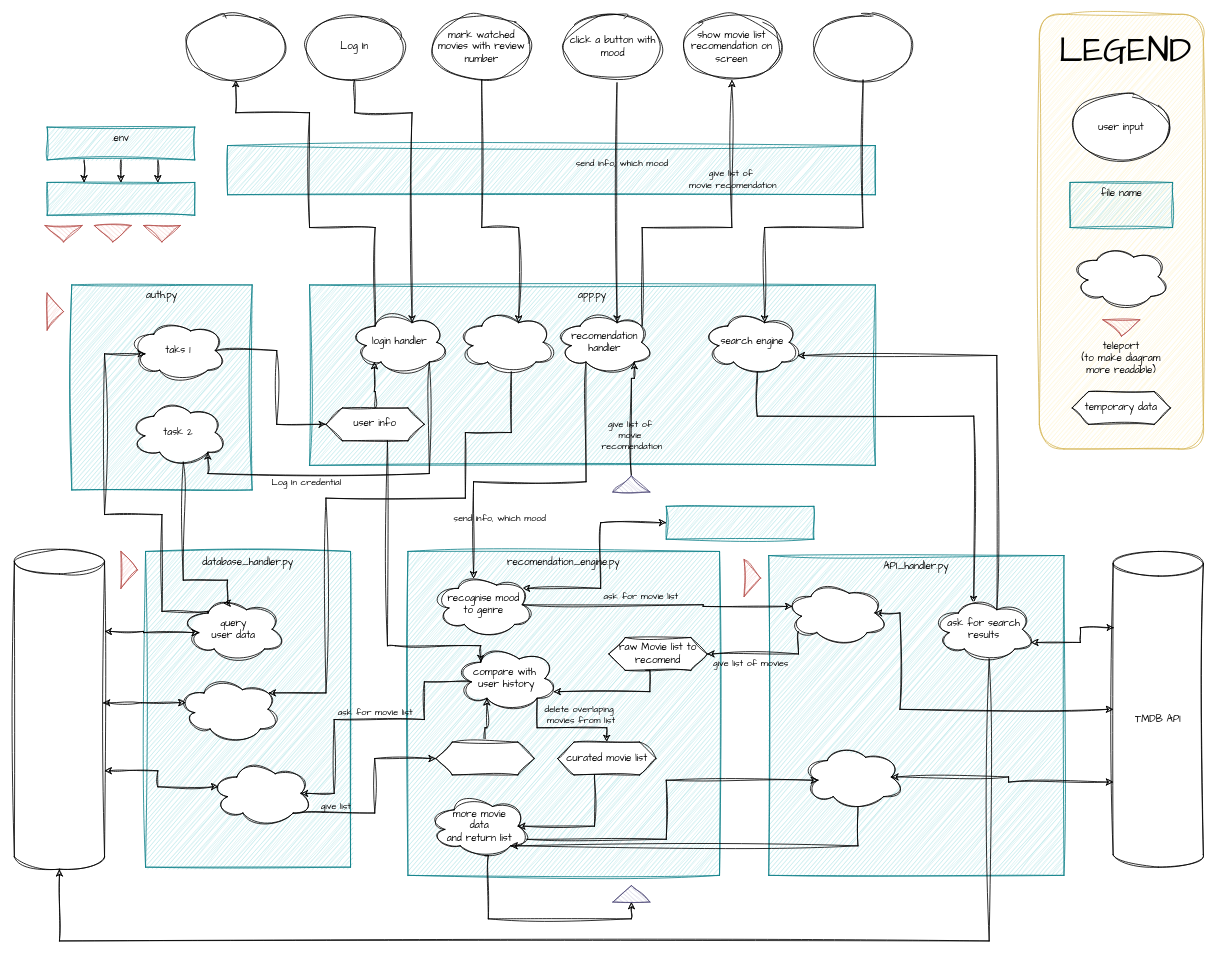
Image size: 1218x962. Some labels were removed from this diagram. The shapes that lost their labels are listed below. From the top down, each one's centre as x and y in pixels, then its label:
(x=235, y=47): log in succes
(x=862, y=47): input in search
(x=551, y=170): FRONTEND
(x=120, y=198): config.py
(x=1121, y=276): function/task
(x=506, y=342): save history handler
(x=739, y=522): mood_to_genres.py
(x=836, y=612): ask for list
(x=59, y=709): cine_mood DATABASE
(x=229, y=709): save history user- movie query
(x=484, y=758): user Movie history list
(x=852, y=776): ask for more data
(x=262, y=793): query
